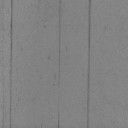surface scratch: (86, 0, 92, 128), (9, 0, 14, 128), (58, 6, 62, 73), (2, 112, 5, 128), (58, 110, 60, 128), (2, 78, 4, 88)
